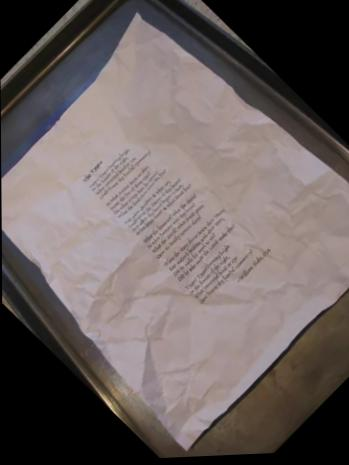paper: (0, 0, 348, 456)
